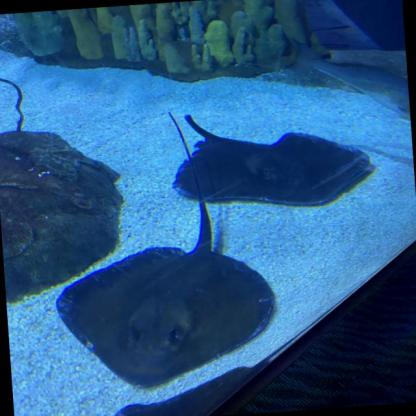fish: (284, 30, 411, 131)
stingray: (52, 239, 281, 393), (171, 127, 374, 216)
